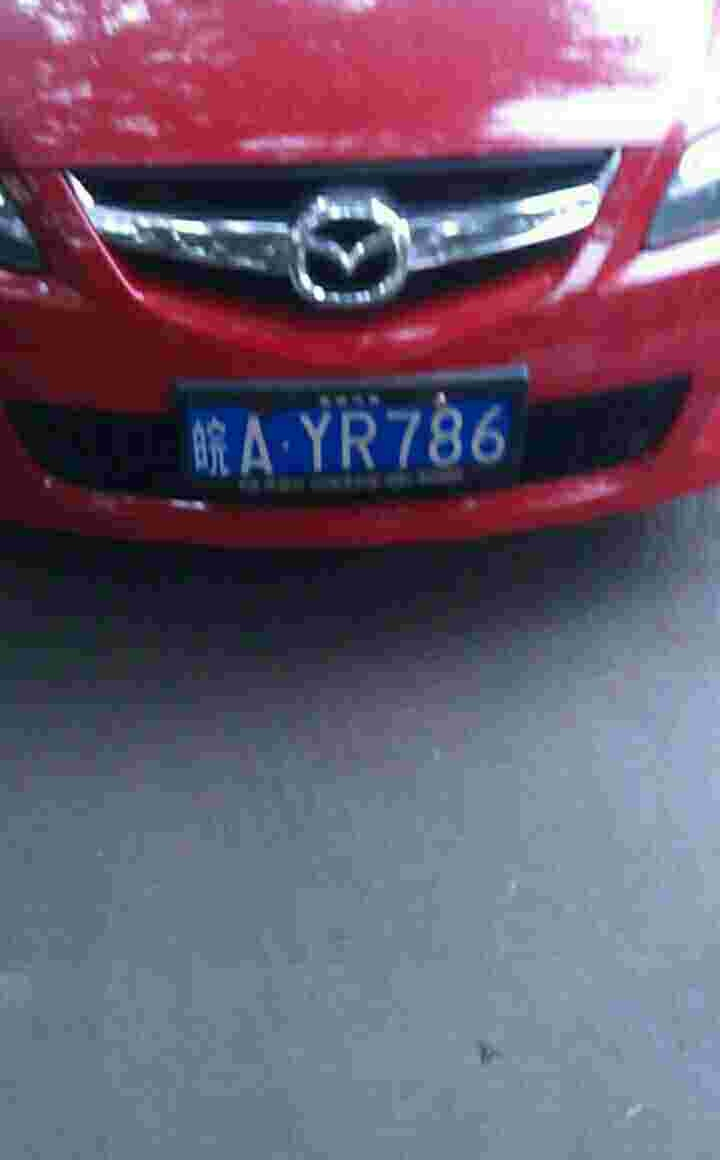license_plate: (182, 389, 521, 496)
